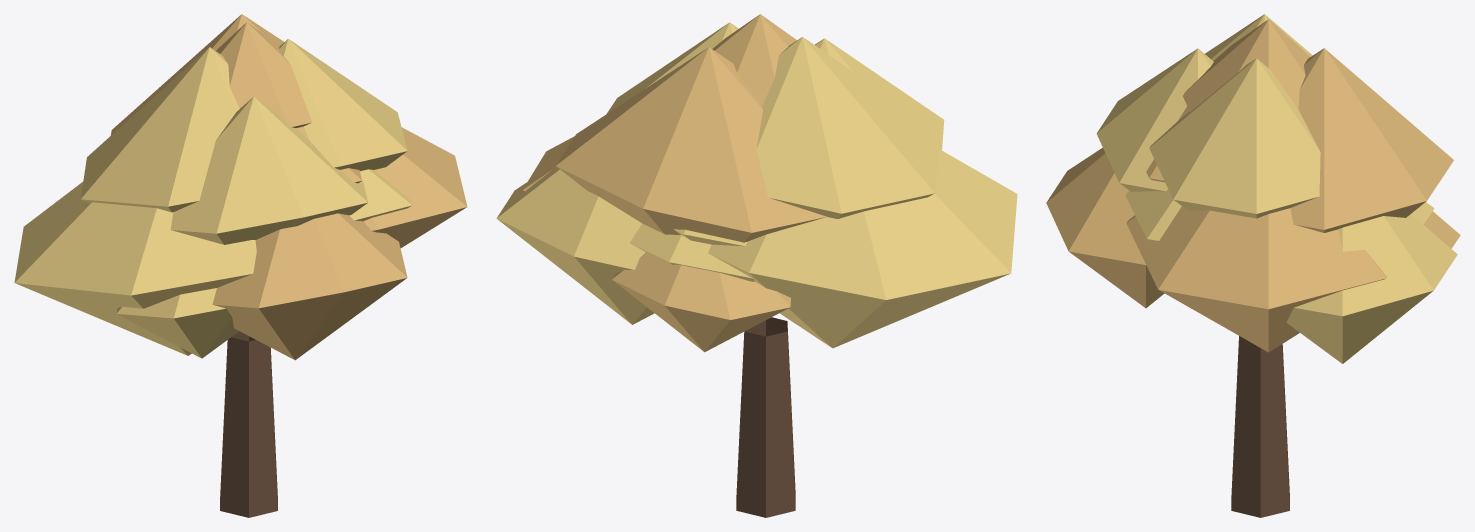
Rendered from tree_reference_oak_core_01_hlod.fbx.
3 renders of one model, left to right at view 1: azimuth 30°, elevation 25°; view 2: azimuth 150°, elevation 25°; view 3: azimuth 270°, elevation 25°, orthographic. The views are drawn at different scales.
Visible parts, largest first — view 1: tree_reference_oak_core_01_hlod_canopy_03, tree_reference_oak_core_01_hlod_canopy_08, tree_reference_oak_core_01_hlod_canopy_05, tree_reference_oak_core_01_hlod_canopy_14, tree_reference_oak_core_01_hlod_trunk_00, tree_reference_oak_core_01_hlod_canopy_11, tree_reference_oak_core_01_hlod_canopy_01, tree_reference_oak_core_01_hlod_canopy_10, tree_reference_oak_core_01_hlod_canopy_09, tree_reference_oak_core_01_hlod_canopy_00, tree_reference_oak_core_01_hlod_canopy_04; view 2: tree_reference_oak_core_01_hlod_canopy_03, tree_reference_oak_core_01_hlod_canopy_04, tree_reference_oak_core_01_hlod_canopy_14, tree_reference_oak_core_01_hlod_canopy_07, tree_reference_oak_core_01_hlod_trunk_00, tree_reference_oak_core_01_hlod_canopy_06, tree_reference_oak_core_01_hlod_canopy_10, tree_reference_oak_core_01_hlod_canopy_02, tree_reference_oak_core_01_hlod_canopy_05, tree_reference_oak_core_01_hlod_canopy_11, tree_reference_oak_core_01_hlod_canopy_01; view 3: tree_reference_oak_core_01_hlod_canopy_01, tree_reference_oak_core_01_hlod_canopy_11, tree_reference_oak_core_01_hlod_canopy_04, tree_reference_oak_core_01_hlod_canopy_07, tree_reference_oak_core_01_hlod_trunk_00, tree_reference_oak_core_01_hlod_canopy_08, tree_reference_oak_core_01_hlod_canopy_05, tree_reference_oak_core_01_hlod_canopy_10, tree_reference_oak_core_01_hlod_canopy_00, tree_reference_oak_core_01_hlod_canopy_14, tree_reference_oak_core_01_hlod_canopy_06.
Boxes of the visible parts, x1=… form: tree_reference_oak_core_01_hlod_canopy_03: x1=14, y1=182, x2=256, y2=355; tree_reference_oak_core_01_hlod_canopy_08: x1=212, y1=213, x2=407, y2=360; tree_reference_oak_core_01_hlod_canopy_05: x1=170, y1=96, x2=367, y2=244; tree_reference_oak_core_01_hlod_canopy_14: x1=81, y1=47, x2=239, y2=212; tree_reference_oak_core_01_hlod_trunk_00: x1=220, y1=331, x2=277, y2=517; tree_reference_oak_core_01_hlod_canopy_11: x1=279, y1=39, x2=407, y2=171; tree_reference_oak_core_01_hlod_canopy_01: x1=363, y1=127, x2=467, y2=247; tree_reference_oak_core_01_hlod_canopy_10: x1=216, y1=22, x2=311, y2=127; tree_reference_oak_core_01_hlod_canopy_09: x1=116, y1=288, x2=239, y2=358; tree_reference_oak_core_01_hlod_canopy_00: x1=349, y1=169, x2=412, y2=221; tree_reference_oak_core_01_hlod_canopy_04: x1=111, y1=14, x2=283, y2=135; tree_reference_oak_core_01_hlod_canopy_03: x1=708, y1=149, x2=1017, y2=348; tree_reference_oak_core_01_hlod_canopy_04: x1=556, y1=47, x2=826, y2=242; tree_reference_oak_core_01_hlod_canopy_14: x1=756, y1=37, x2=940, y2=218; tree_reference_oak_core_01_hlod_canopy_07: x1=496, y1=166, x2=654, y2=324; tree_reference_oak_core_01_hlod_trunk_00: x1=736, y1=317, x2=795, y2=517; tree_reference_oak_core_01_hlod_canopy_06: x1=612, y1=252, x2=790, y2=352; tree_reference_oak_core_01_hlod_canopy_10: x1=712, y1=14, x2=796, y2=106; tree_reference_oak_core_01_hlod_canopy_02: x1=630, y1=223, x2=754, y2=281; tree_reference_oak_core_01_hlod_canopy_05: x1=815, y1=38, x2=944, y2=150; tree_reference_oak_core_01_hlod_canopy_11: x1=607, y1=22, x2=738, y2=113; tree_reference_oak_core_01_hlod_canopy_01: x1=523, y1=136, x2=574, y2=191; tree_reference_oak_core_01_hlod_canopy_01: x1=1126, y1=206, x2=1386, y2=352; tree_reference_oak_core_01_hlod_canopy_11: x1=1149, y1=58, x2=1320, y2=218; tree_reference_oak_core_01_hlod_canopy_04: x1=1290, y1=48, x2=1453, y2=232; tree_reference_oak_core_01_hlod_canopy_07: x1=1286, y1=214, x2=1457, y2=363; tree_reference_oak_core_01_hlod_trunk_00: x1=1231, y1=336, x2=1289, y2=517; tree_reference_oak_core_01_hlod_canopy_08: x1=1046, y1=147, x2=1164, y2=308; tree_reference_oak_core_01_hlod_canopy_05: x1=1096, y1=48, x2=1213, y2=191; tree_reference_oak_core_01_hlod_canopy_10: x1=1183, y1=19, x2=1310, y2=111; tree_reference_oak_core_01_hlod_canopy_00: x1=1125, y1=189, x2=1181, y2=240; tree_reference_oak_core_01_hlod_canopy_14: x1=1205, y1=14, x2=1312, y2=60; tree_reference_oak_core_01_hlod_canopy_06: x1=1423, y1=211, x2=1460, y2=248.
Bounding box in the file's own units: 526 × 539 × 417.
